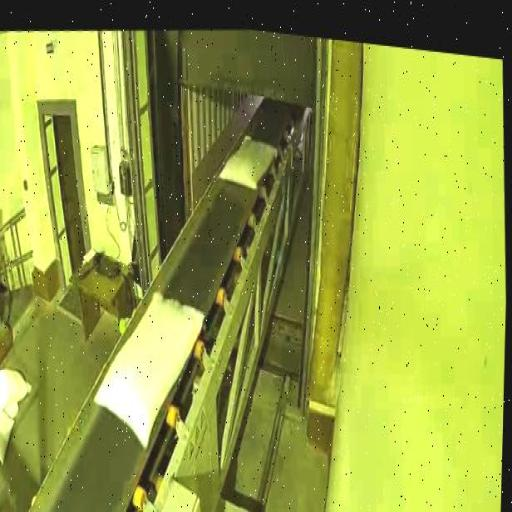c-belt-sack-count: (95, 293, 204, 447), (219, 136, 277, 188)
